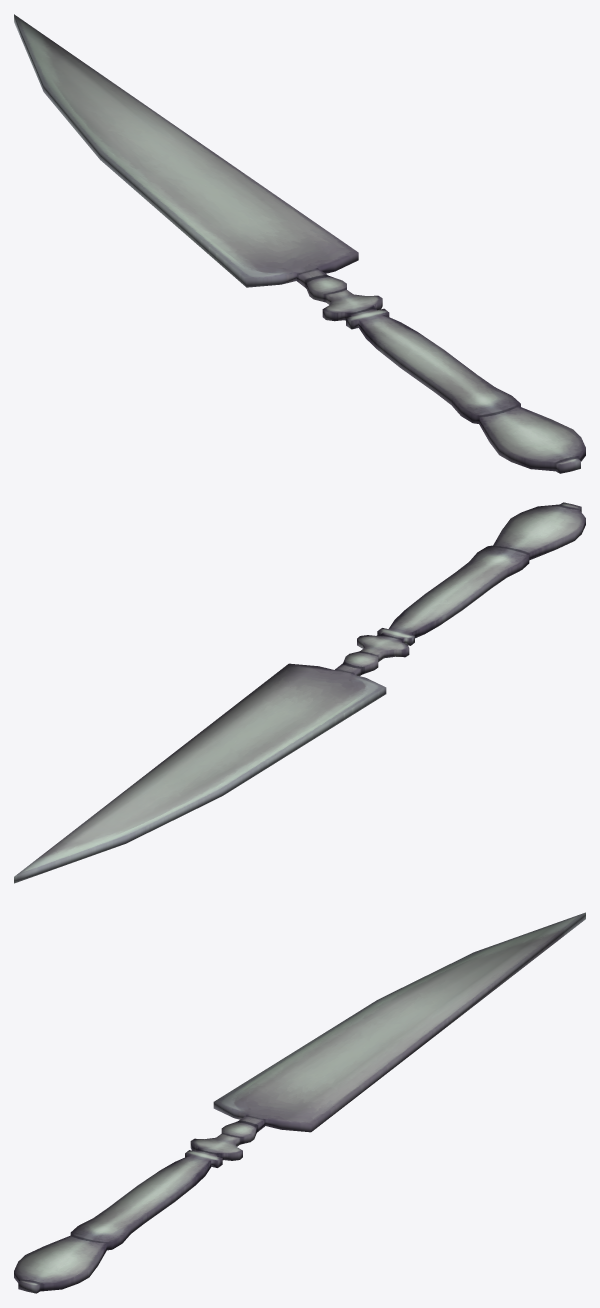
File: Lv1_Cuchillo.fbx
The picture shows the model from 3 angles, top to bottom: view 1: azimuth 30°, elevation 25°; view 2: azimuth 150°, elevation 25°; view 3: azimuth 330°, elevation 25°; orthographic projection. The views are drawn at different scales.
Visible parts, largest first — view 1: Lv1_Cuchillo; view 2: Lv1_Cuchillo; view 3: Lv1_Cuchillo.
Part boxes in pixels (left/top/right/bottom): Lv1_Cuchillo: left=14, top=14, right=585, bottom=473; Lv1_Cuchillo: left=14, top=502, right=585, bottom=883; Lv1_Cuchillo: left=14, top=912, right=585, bottom=1293.
Bounding box in the file's own units: 1.96 × 0.1303 × 18.16.
1 material, 1 textured.
